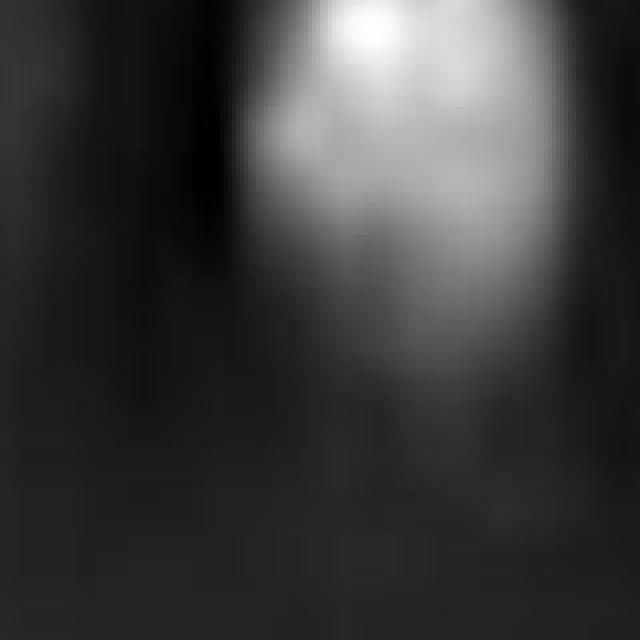person: (293, 1, 541, 433)
